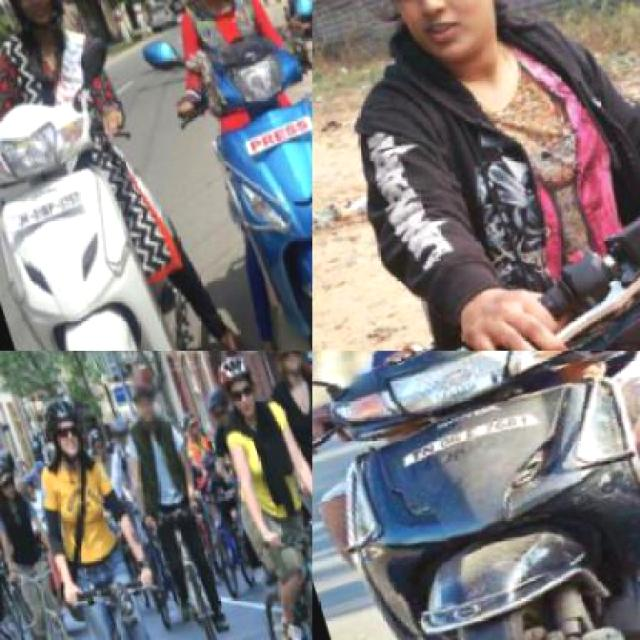With Helmet: (32, 380, 102, 472), (205, 351, 280, 429), (0, 0, 95, 61), (124, 362, 174, 431), (0, 446, 35, 509), (202, 375, 243, 428), (260, 351, 311, 380), (107, 406, 141, 448)
Without Helmet: (334, 0, 548, 97)
